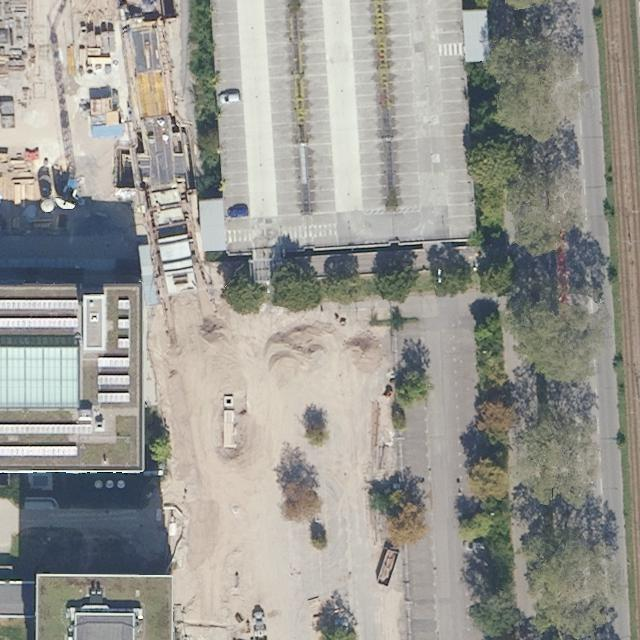PV: (0, 299, 79, 312), (0, 317, 77, 330), (97, 357, 129, 370), (98, 375, 129, 387), (118, 298, 130, 309), (118, 318, 129, 329), (118, 338, 129, 349)
